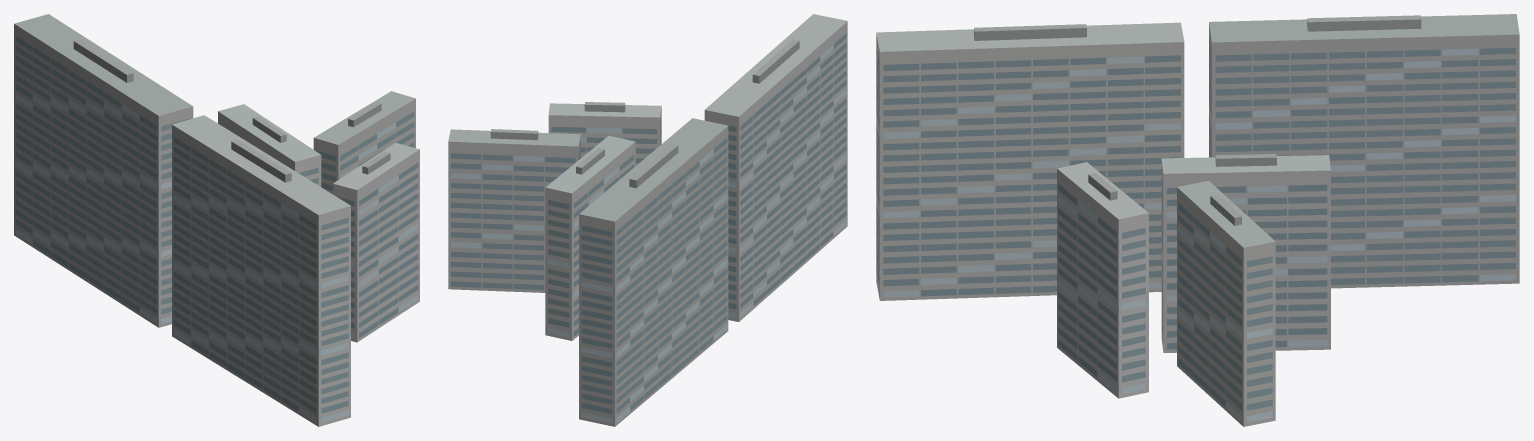
The model's file is apt-a14072901.glb.
3 views of the same model, side by side, from view 1: azimuth 30°, elevation 25°; view 2: azimuth 150°, elevation 25°; view 3: azimuth 270°, elevation 25° (orthographic). The views are drawn at different scales.
Visible parts, largest first — view 1: apt-a14072901; view 2: apt-a14072901; view 3: apt-a14072901.
Part boxes in pixels (x1=…): apt-a14072901: x1=14, y1=14, x2=419, y2=426; apt-a14072901: x1=448, y1=14, x2=847, y2=426; apt-a14072901: x1=876, y1=14, x2=1519, y2=426.
Size of the model in its own units: 89.77 by 66 by 149.
